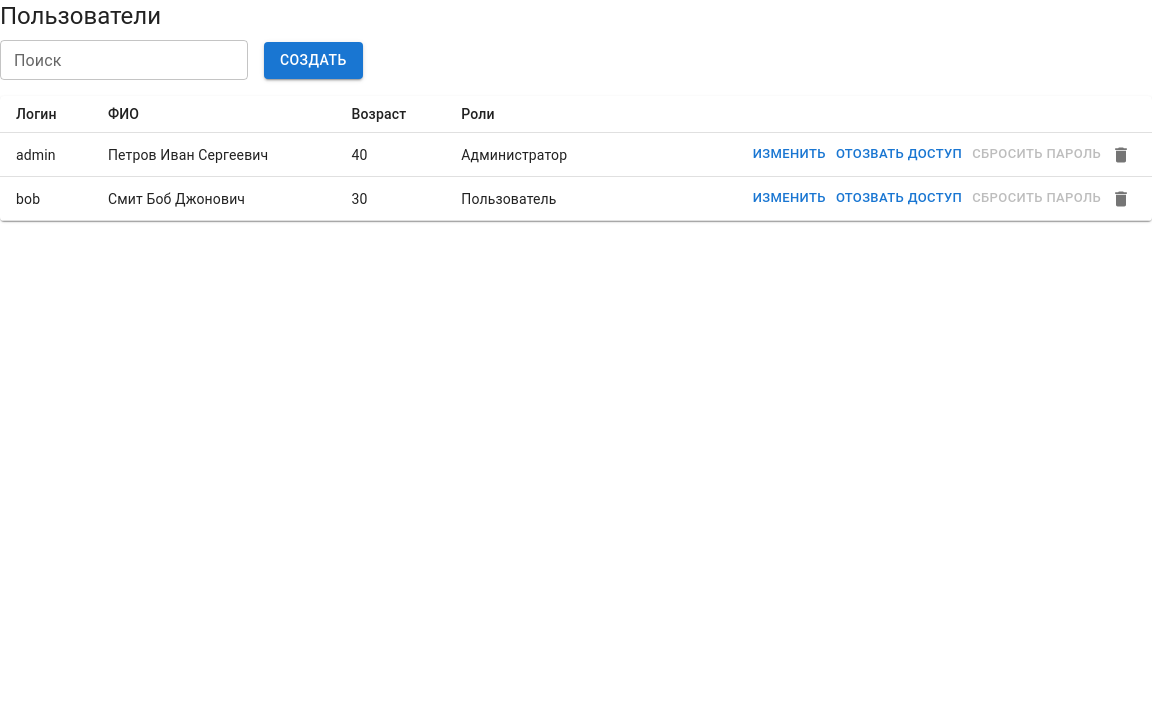
Test: UsersPage › edits a user with the right body and refreshes the table
Click the button "Изменить" in the row of "bob": (789, 199) [748,183,831,214]
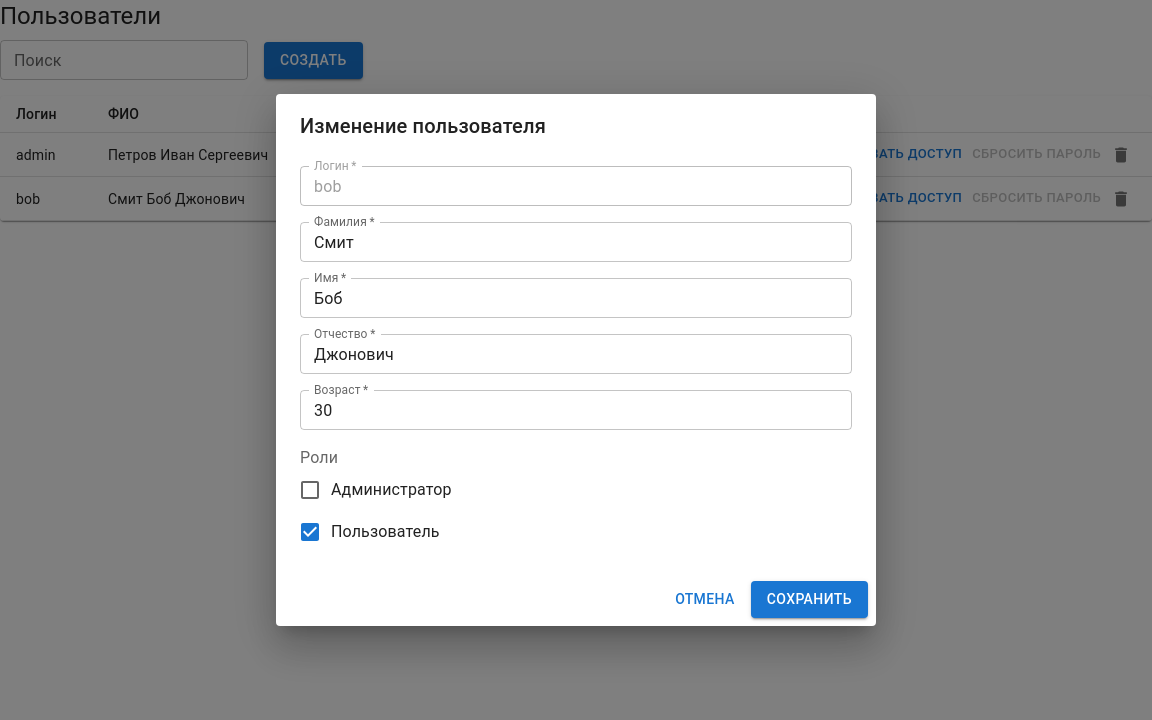
Expected: the field labelled "Логин *" is disabled, [300,166,852,206]
Replace the text in the field labelled "Имя *" with "Роберт": (576, 298) [300,278,852,318]
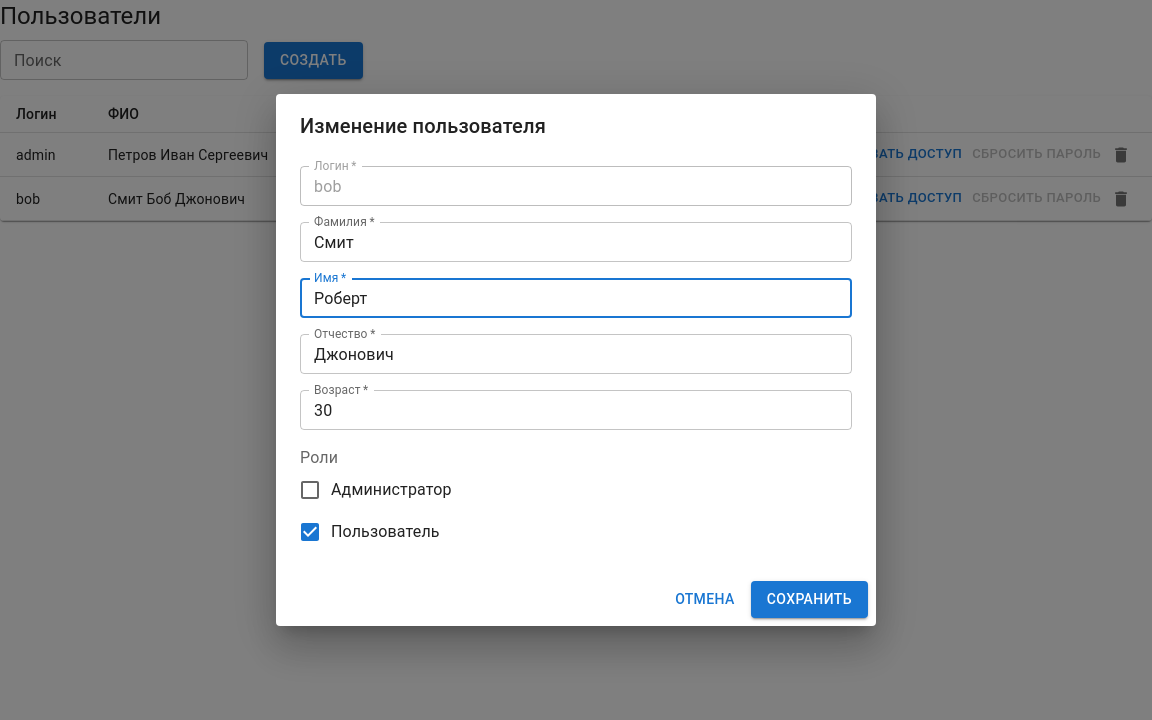
Click the checkbox labelled "Администратор": (375, 490) [298,478,452,502]
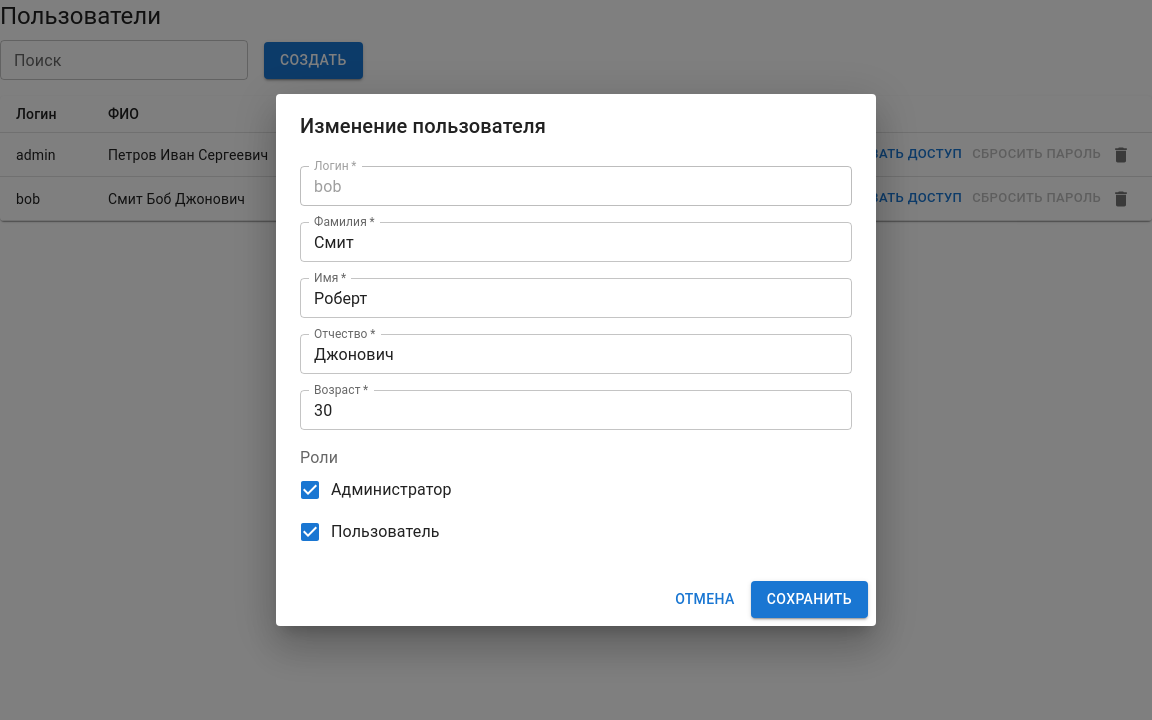
Click the button "Сохранить": (809, 600) [751,581,868,618]
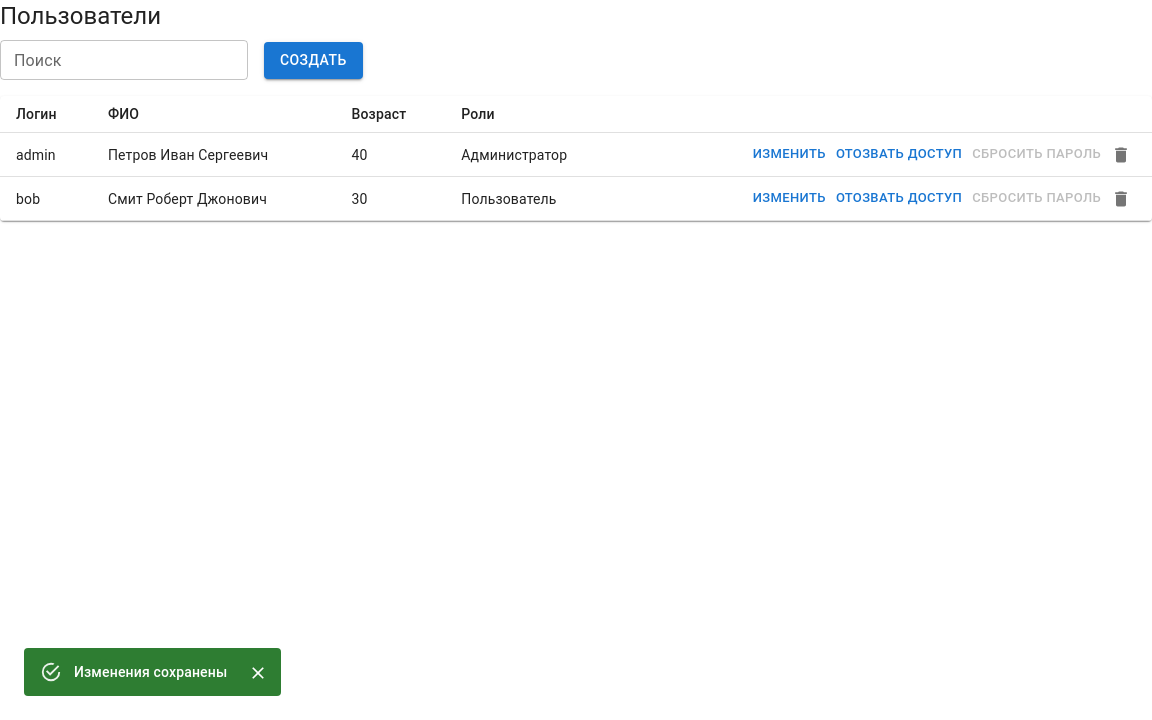
Expected: the text "Смит Роберт Джонович" is shown, [92,177,336,220]
